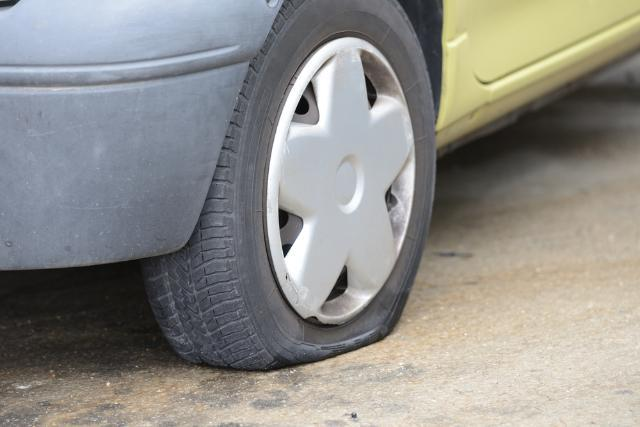tire flat: (141, 0, 437, 371)
